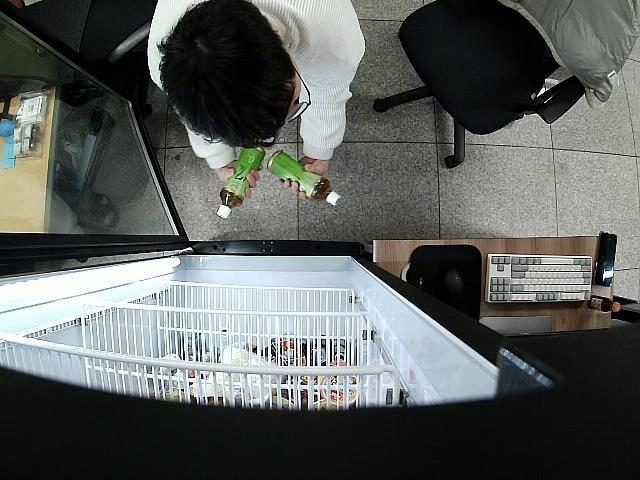19_17cha: (267, 150, 342, 211), (218, 147, 266, 218)
